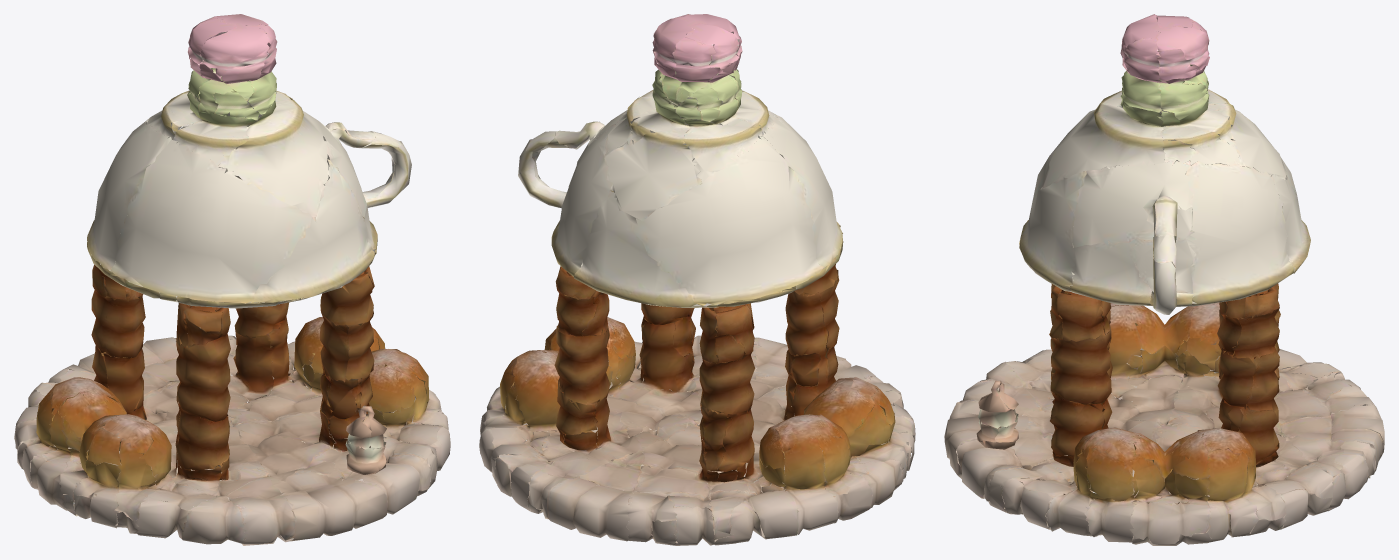
File: teacup-gazebo-park.glb
3 renders of one model, left to right at view 1: azimuth 30°, elevation 25°; view 2: azimuth 150°, elevation 25°; view 3: azimuth 270°, elevation 25°, orthographic.
Parts seen in each view (by area): view 1: Mesh_0; view 2: Mesh_0; view 3: Mesh_0.
Part boxes in pixels (<box>): Mesh_0: <box>14,14,450,545</box>; Mesh_0: <box>479,14,915,545</box>; Mesh_0: <box>944,14,1384,545</box>.
Size of the model in its own units: 1.76 by 1.91 by 1.76.
Materials: 1 (1 with a texture image).
